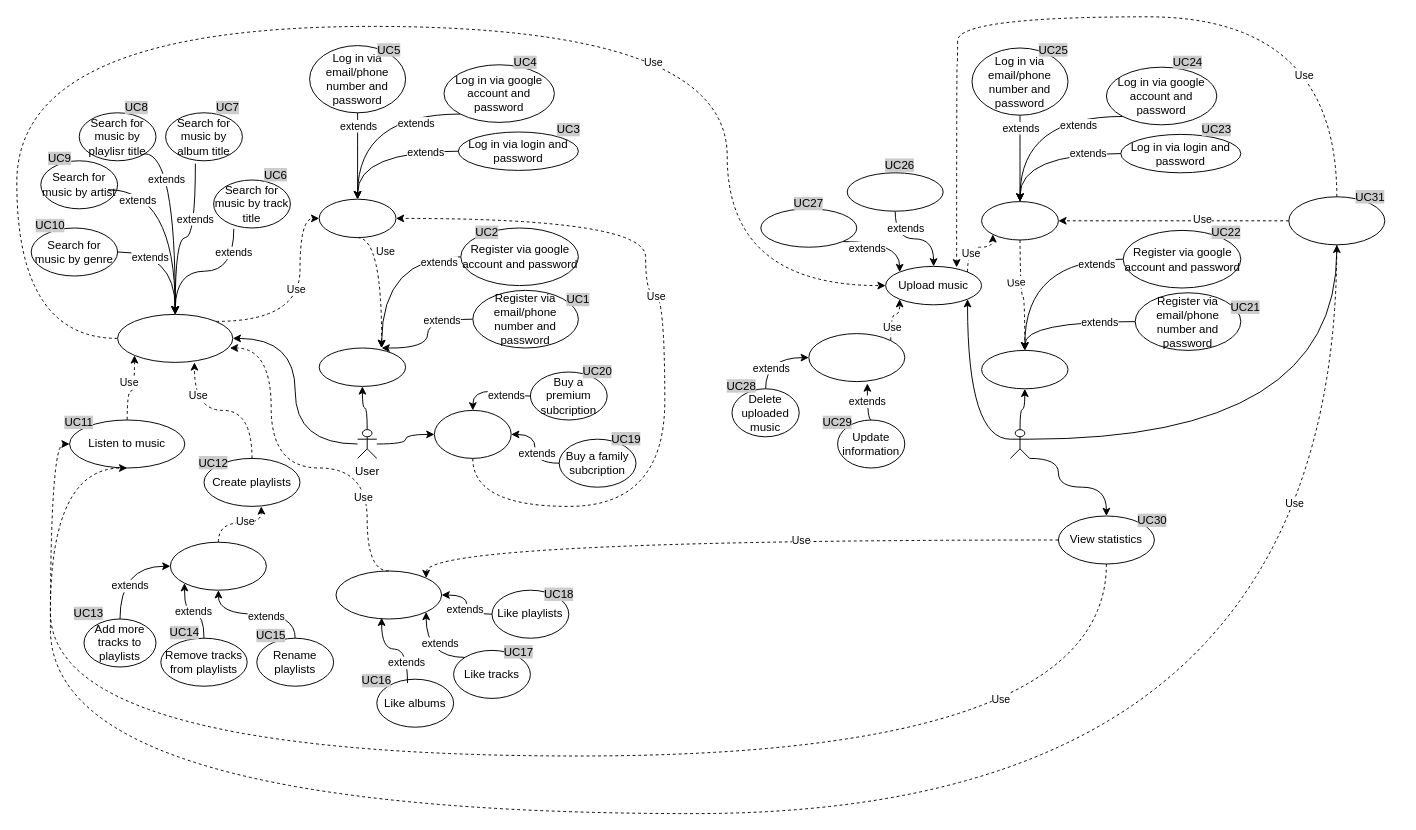
The diagram is 1416 pixels wide and 830 high, and some of its shapes have lost their labels. The centre of each missing label's shape, as x and y in pixels:
Artist: the point at 1019,443
Buy a subcription: the point at 472,433
Edit uploaded music: the point at 856,357
Like music (add to favourites): the point at 388,594
Log in as a user: the point at 357,218
Log in as an artist: the point at 1019,220
Manage playlists: the point at 217,565
Receive monetization for streams: the point at 1336,220
Register as a user: the point at 362,366
Register as an artist: the point at 1024,369
Search for music: the point at 175,337
Upload albums: the point at 808,227
Upload single tracks: the point at 894,191
